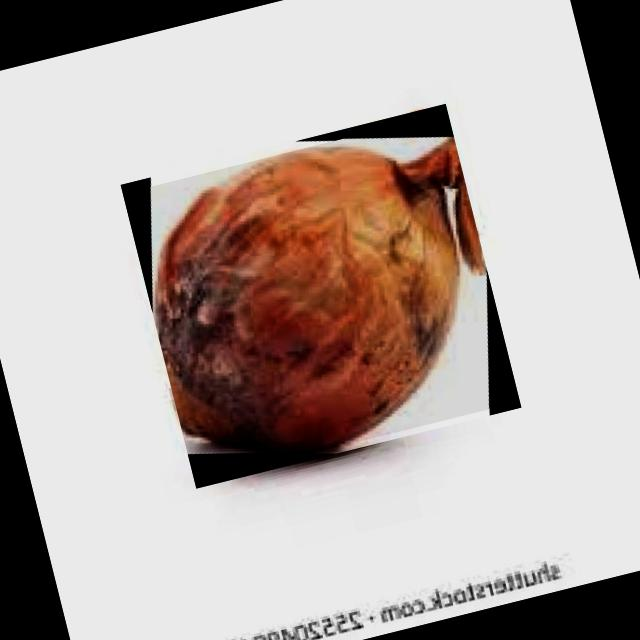rotten: (155, 137, 487, 453)
